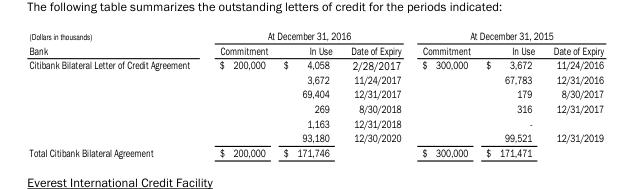table: (28, 28, 603, 158)
table column: (28, 28, 204, 158), (204, 28, 275, 158), (341, 28, 410, 158), (410, 28, 477, 158), (275, 28, 341, 158), (477, 28, 543, 158), (543, 28, 603, 158)
table column header: (28, 28, 603, 57)
table row: (28, 42, 603, 57), (28, 57, 603, 72), (28, 100, 603, 115), (28, 115, 603, 130), (28, 28, 603, 42), (28, 72, 603, 86), (28, 86, 603, 100), (28, 130, 603, 144), (28, 144, 603, 158)
table spanning cell: (28, 28, 204, 57), (204, 28, 410, 42), (410, 28, 603, 42)
